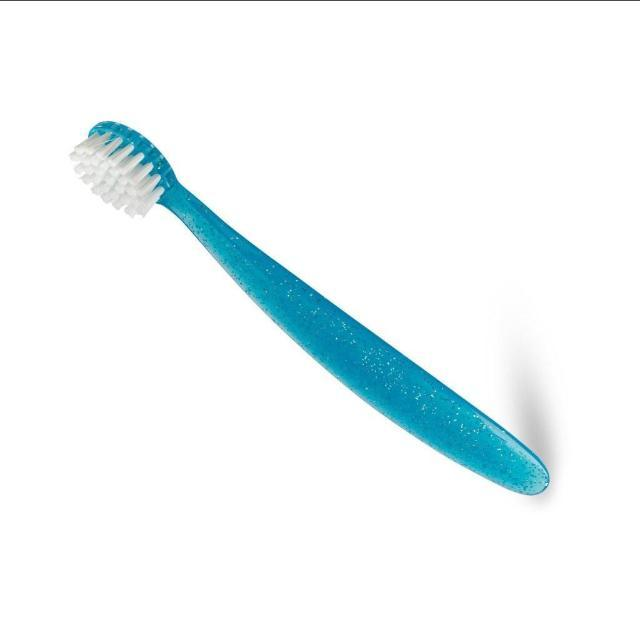toothbrush: (52, 105, 574, 511)
